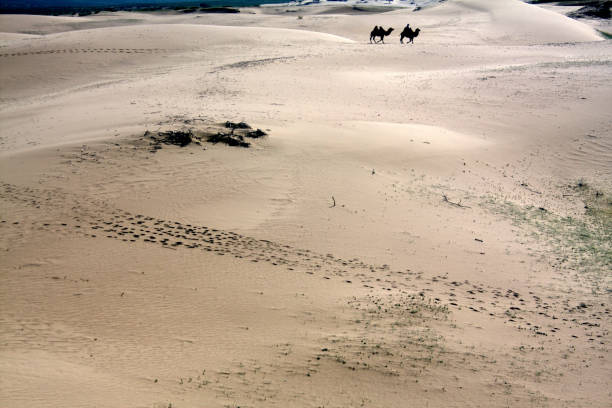human_foot_print: (75, 195, 600, 338)
